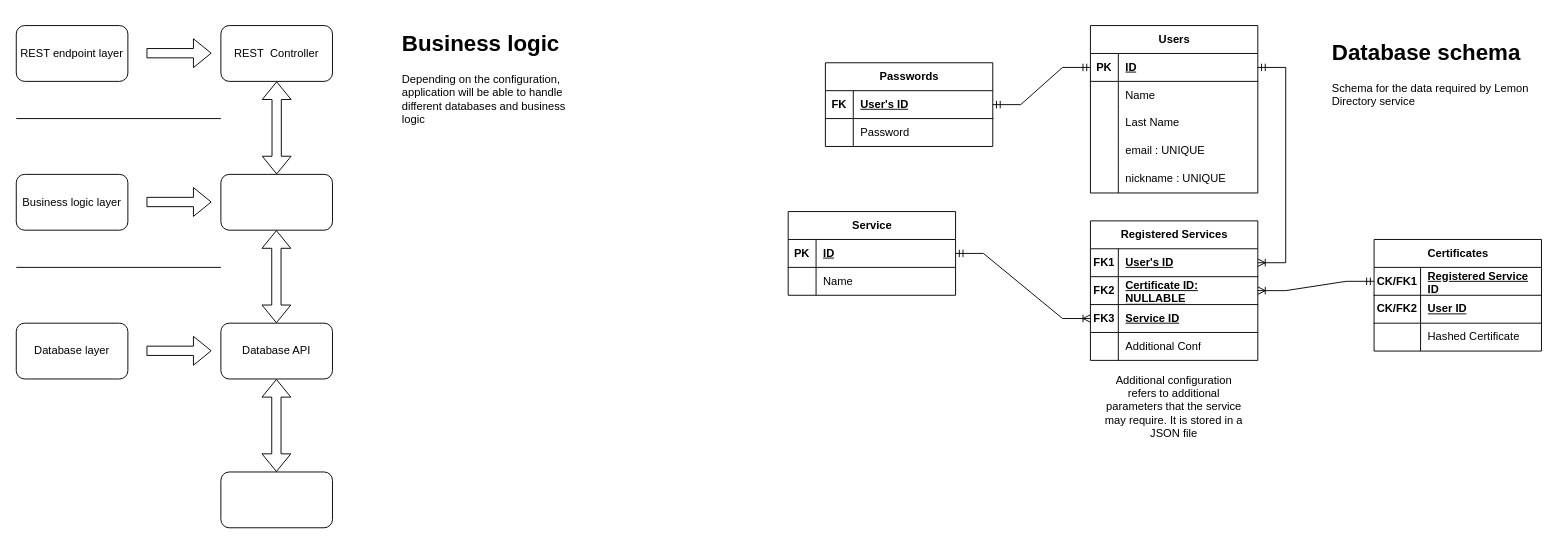
The diagram is 1558 pixels wide and 544 high, and some of its shapes have lost their labels. Each missing label, with the centre of its shape:
Business logic: (x=276, y=201)
Database: (x=276, y=499)
